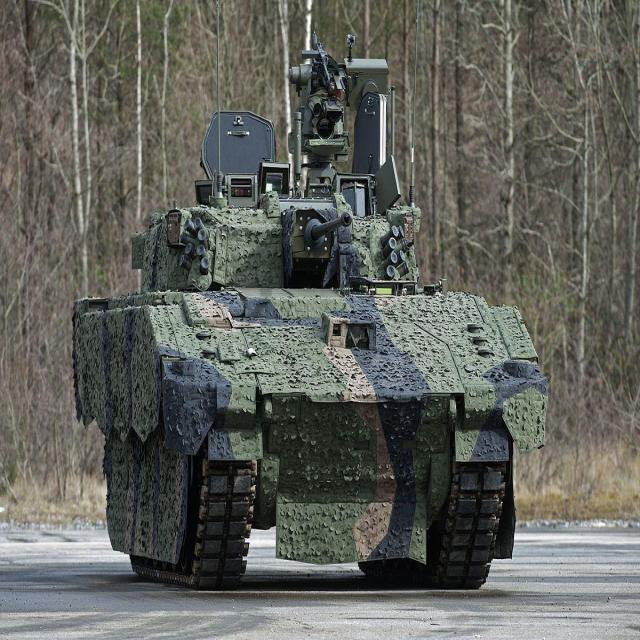Tanks: (66, 40, 553, 592)
